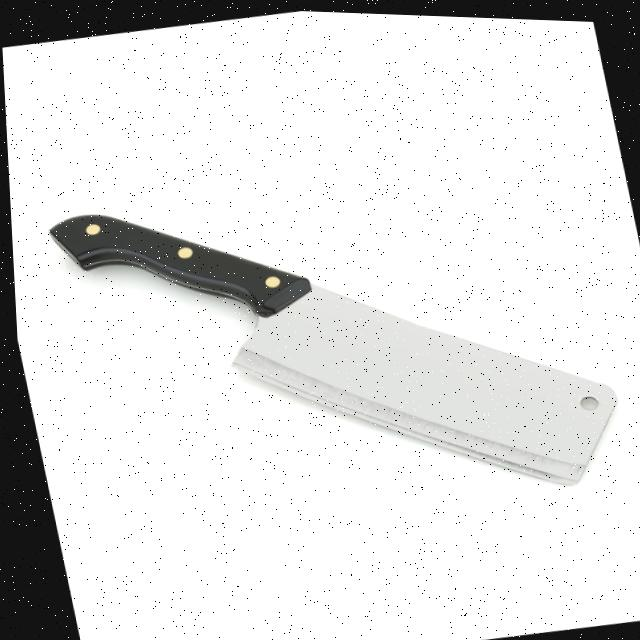knife: (37, 133, 635, 560)
